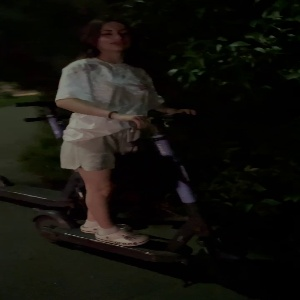human on a scooter: (29, 11, 256, 287)
